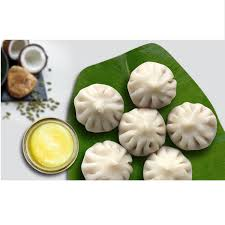modak: (164, 98, 225, 154), (125, 59, 179, 111), (119, 109, 176, 157), (75, 84, 125, 135), (82, 140, 137, 184), (147, 147, 203, 188)
